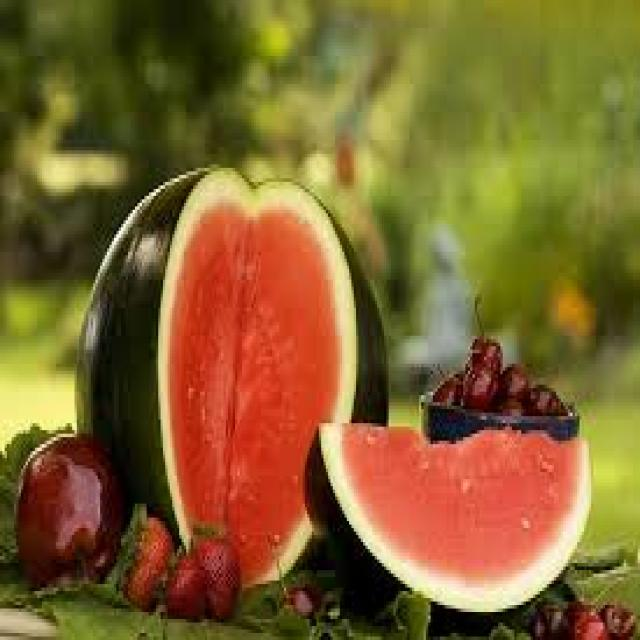watermelon: (156, 165, 358, 588), (317, 416, 591, 612)
